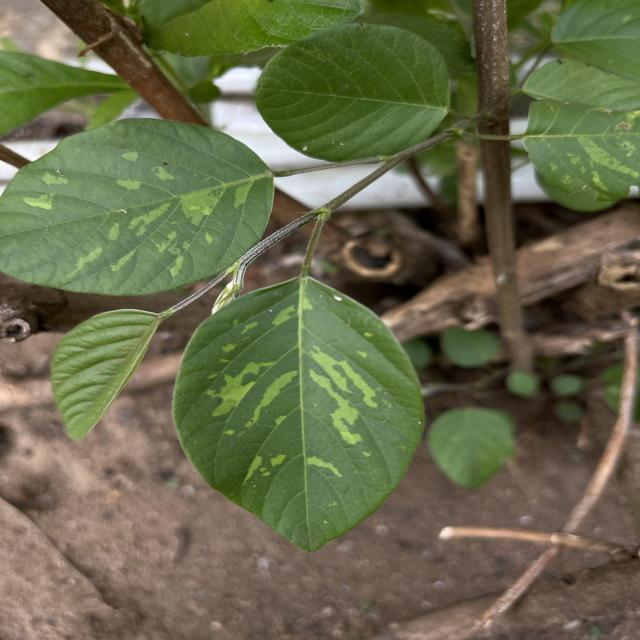Desmodium gangeticum: (169, 272, 430, 558), (0, 115, 279, 299)
